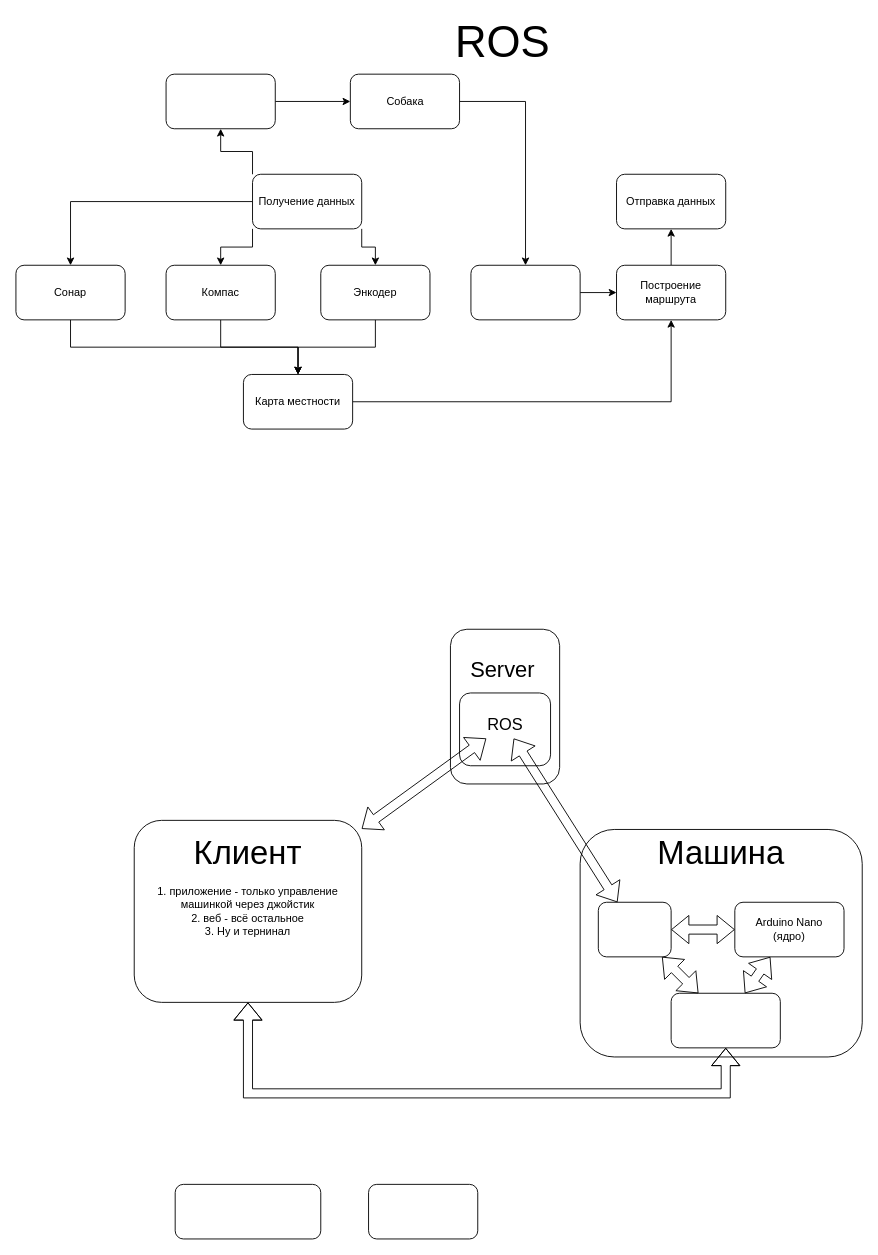
Image size: 878x1255. Some labels were removed from this diagram. Each missing label, with the centre of its shape:
"Arduino Nano (debug)" belongs at (725,1020).
"ESP32" belongs at (634,929).
"вебка" belongs at (220,101).
"Выбор приоритета" belongs at (525,292).
"Лучше переделать корпус" belongs at (423,1211).
"Симуляция 2D или 3D?" belongs at (247,1211).
